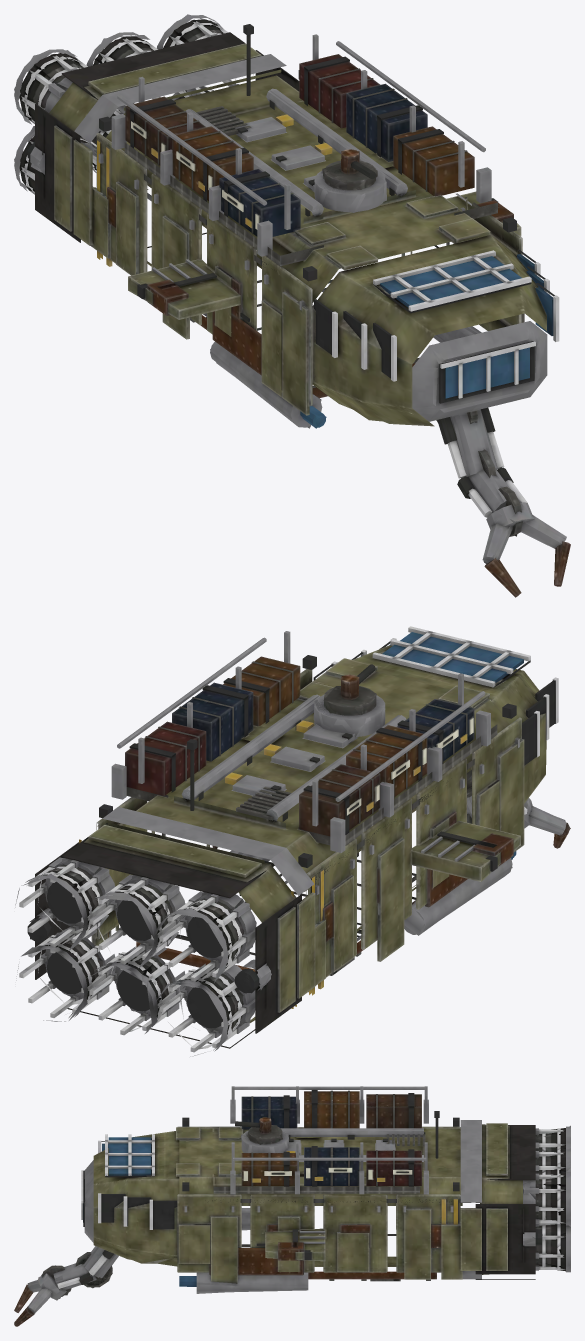
The model's file is sd_ship_yuk.glb.
3 views of the same model, one above another, from view 1: azimuth 30°, elevation 25°; view 2: azimuth 150°, elevation 25°; view 3: azimuth 270°, elevation 25° (orthographic). The views are drawn at different scales.
Visible parts, largest first — view 1: LOD0_body, LOD1_body; view 2: LOD0_body, LOD1_body; view 3: LOD0_body, LOD1_body.
Part boxes in pixels (left/top/right/bottom): LOD0_body: left=14, top=15, right=570, bottom=597; LOD1_body: left=14, top=14, right=565, bottom=592; LOD0_body: left=19, top=626, right=570, bottom=1052; LOD1_body: left=15, top=648, right=570, bottom=1056; LOD0_body: left=14, top=1086, right=570, bottom=1326; LOD1_body: left=14, top=1089, right=570, bottom=1322.
Bounding box in the file's own units: 0.4888 × 0.4297 × 1.
Materials: 1 (1 with a texture image).
